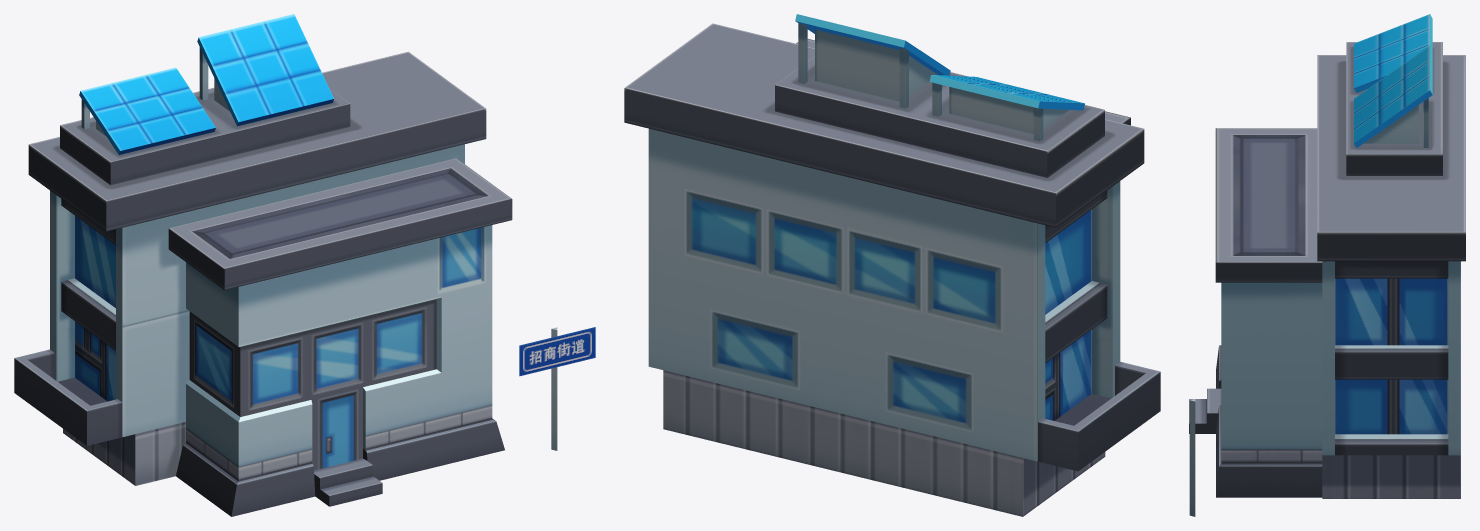
File: bangonglou.FBX
The picture shows the model from 3 angles, left to right: view 1: azimuth 30°, elevation 25°; view 2: azimuth 150°, elevation 25°; view 3: azimuth 270°, elevation 25°; orthographic projection. The views are drawn at different scales.
Visible parts, largest first — view 1: bangonglou; view 2: bangonglou; view 3: bangonglou.
Part boxes in pixels (left/top/right/bottom): bangonglou: left=14, top=14, right=595, bottom=516; bangonglou: left=624, top=14, right=1160, bottom=516; bangonglou: left=1189, top=14, right=1465, bottom=516.
Bounding box in the file's own units: 1264 × 1041 × 722.
Materials: 1 (1 with a texture image).
